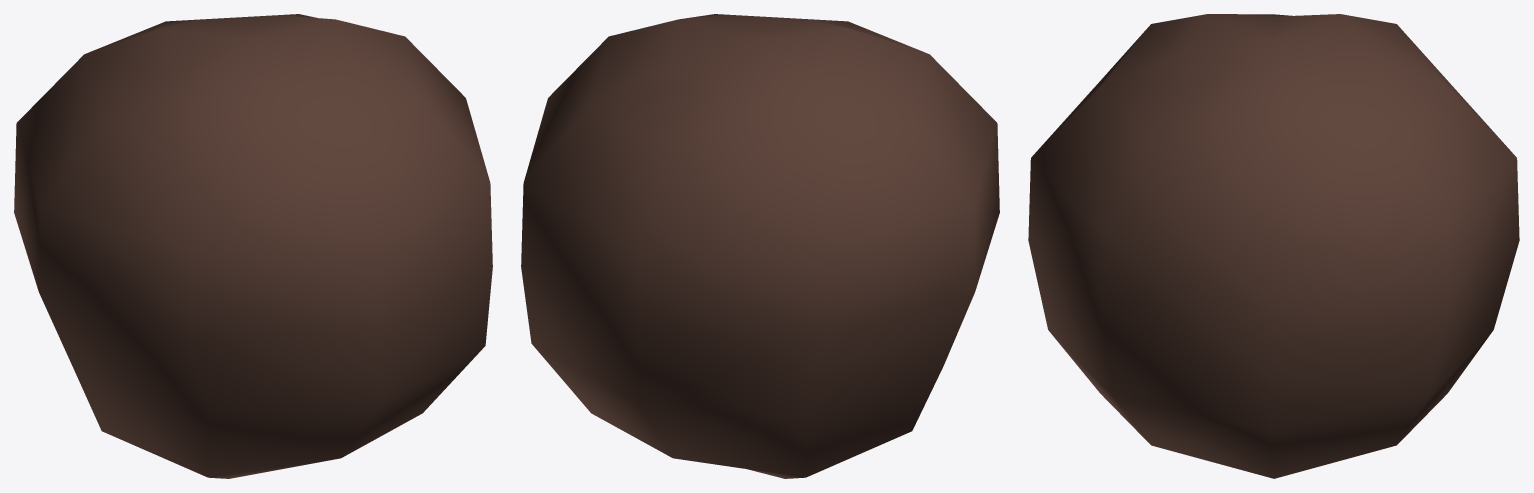
The model's file is PS_Meatball.fbx.
3 views of the same model, side by side, from view 1: azimuth 30°, elevation 25°; view 2: azimuth 150°, elevation 25°; view 3: azimuth 270°, elevation 25° (orthographic).
Parts seen in each view (by area): view 1: PS_Meatball; view 2: PS_Meatball; view 3: PS_Meatball.
Part boxes in pixels (x1,y1,x2,y2): PS_Meatball: (14, 14, 492, 478); PS_Meatball: (521, 14, 999, 478); PS_Meatball: (1028, 14, 1519, 478).
Size of the model in its own units: 0.2086 by 0.1867 by 0.2086.
